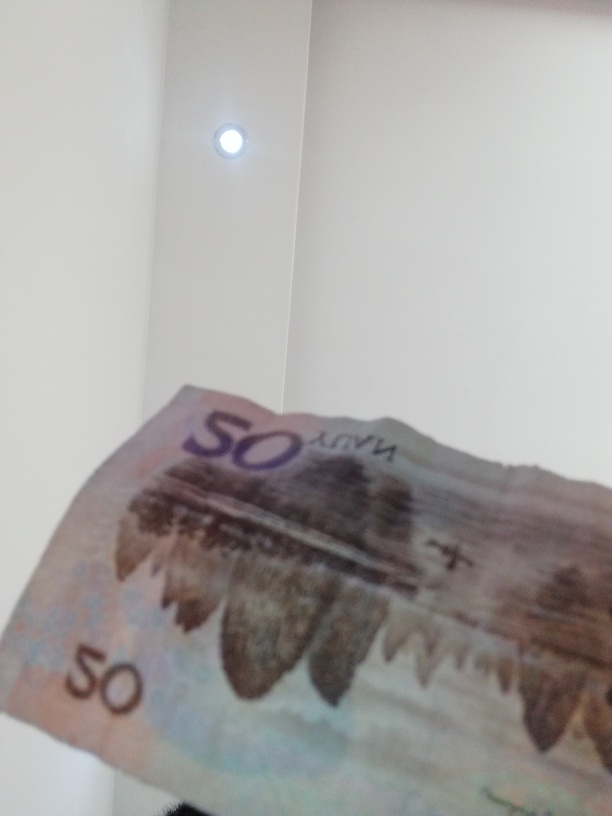rmb: (3, 383, 612, 812)
